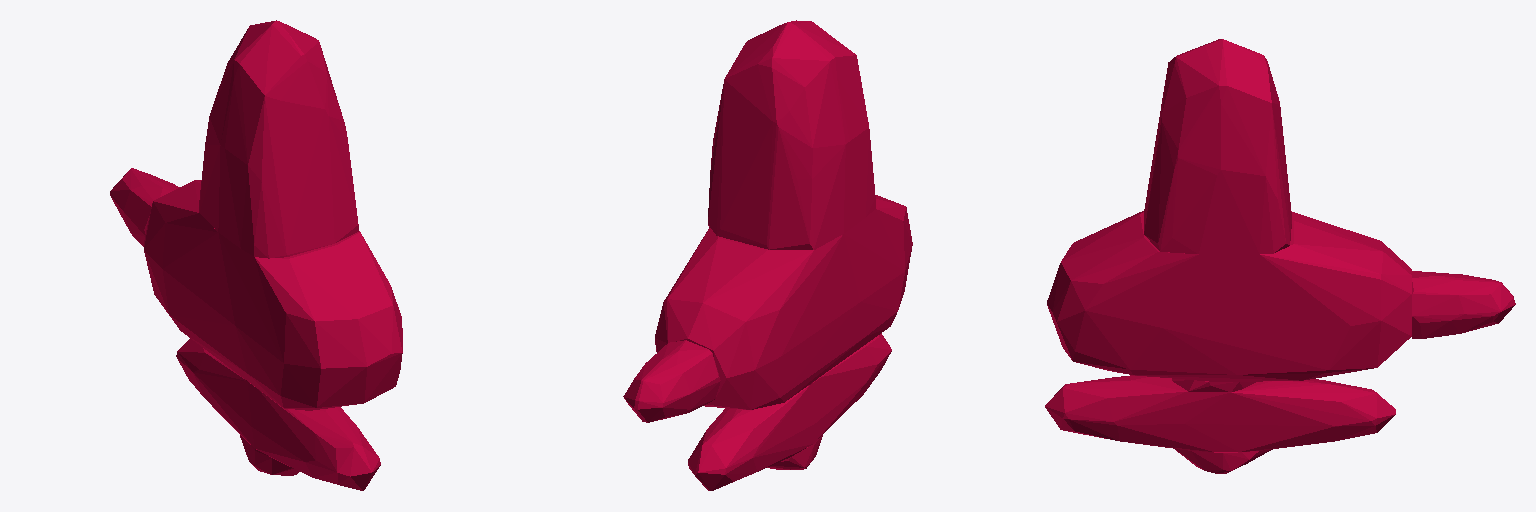
URDF robot description (blob873):
<robot name="blob873">
  <link name="random_obj_873">
    <contact>
      <lateral_friction value="1.0"/>
      <rolling_friction value="0.0"/>
      <inertia_scaling value="3.0"/>
      <contact_cfm value="0.0"/>
      <contact_erp value="1.0"/>
    </contact>
    <inertial>
      <origin rpy="0 0 0" xyz="0 0 0"/>
      <mass value="0.1"/>
      <inertia ixx="1" ixy="0" ixz="0" iyy="1" iyz="0" izz="0"/>
    </inertial>
    <visual>
      <origin rpy="0 0 0" xyz="0 0 0"/>
      <geometry>
        <mesh filename="873.obj" scale="0.015 0.015 0.015"/>
      </geometry>
      <material name="blockmat">
        <color rgba="0.76 0.06 0.29 1"/>
      </material>
    </visual>
    <collision>
      <origin rpy="0 0 0" xyz="0 0 0"/>
      <geometry>
        <mesh filename="873.obj" scale="0.015 0.015 0.015"/>
      </geometry>
    </collision>
  </link>
</robot>

--- What the picture shows (computed from the rendered views, not written in the file) ---
3 views of the same robot in one strip: view 1: azimuth 30°, elevation 25°; view 2: azimuth 150°, elevation 25°; view 3: azimuth 270°, elevation 25° (orthographic).
Model blob873 with 1 links and 0 joints (none), rooted at random_obj_873, posed every joint at zero.
Links seen in each view (by area): view 1: random_obj_873; view 2: random_obj_873; view 3: random_obj_873.
Boxes of the visible links, x1,y1,x2,y2 form: random_obj_873: [110, 20, 402, 490]; random_obj_873: [623, 20, 912, 490]; random_obj_873: [1045, 39, 1515, 473].
Bounding box of the posed robot: 0.0317 × 0.1207 × 0.1207 m (x, y, z).
1 mesh visuals loaded from 1 distinct referenced files (1 OBJ).